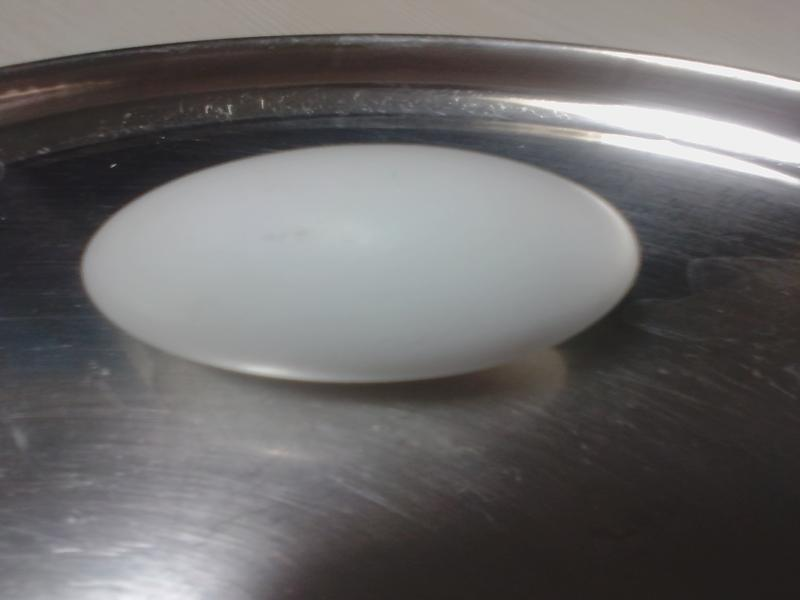egg: (73, 147, 636, 381)
